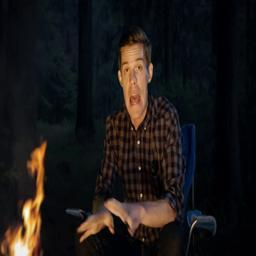fire: (1, 142, 46, 256)
